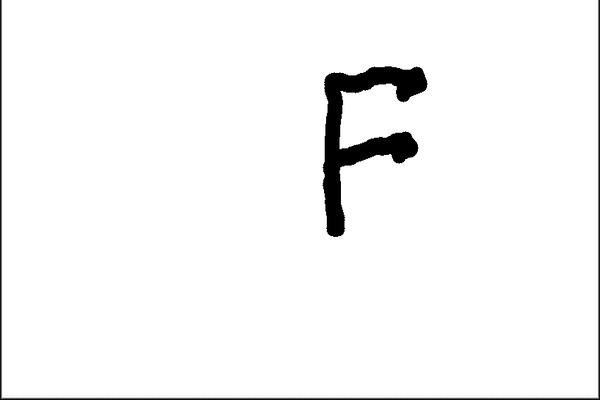F: (316, 59, 432, 241)
